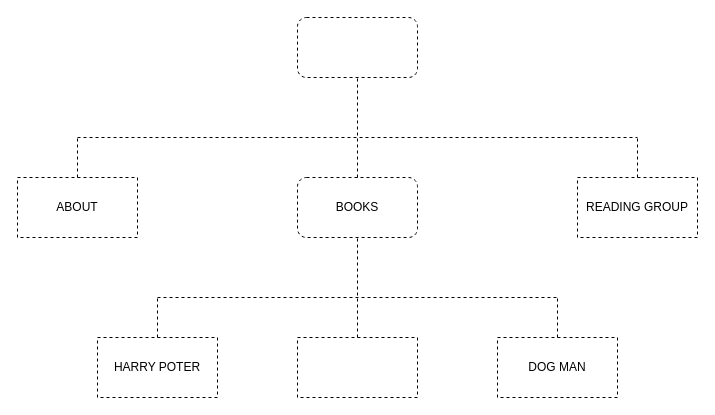
Some shapes in this 715 by 415 pixel diagram are drawn without their labels. The shapes that lost their labels are listed below. From the top down, each one's centre as x and y in pixels, then its label:
At [357,47]: "HOME".
At [357,367]: "DIARY OF A WIMPY KID".
